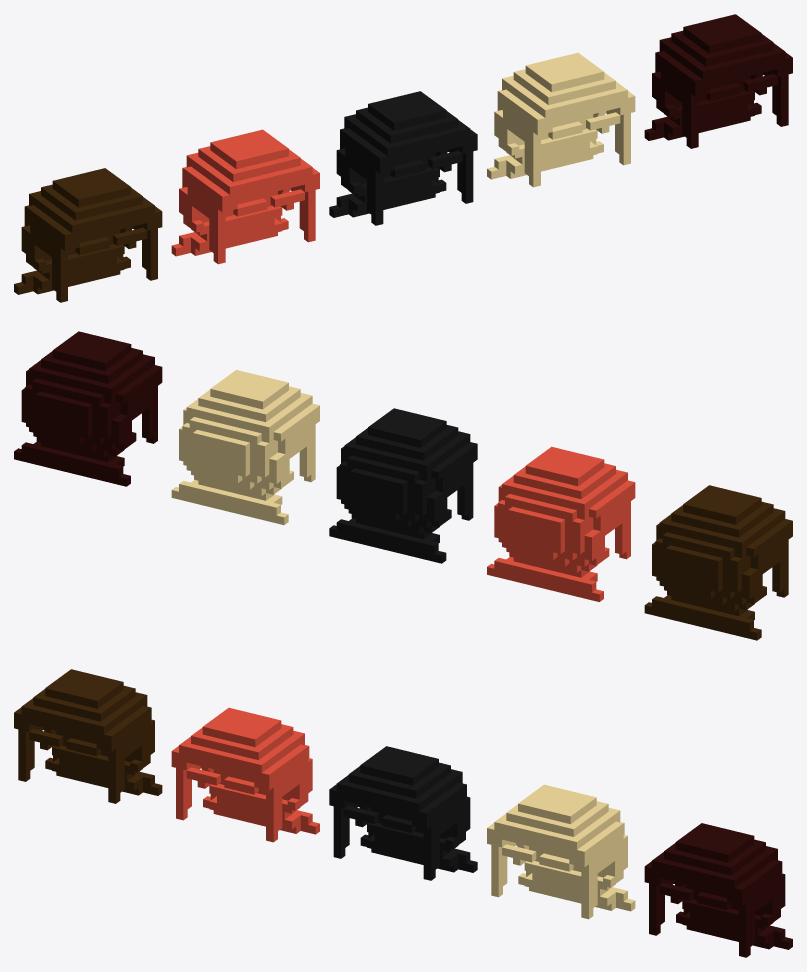
Rendered from Bonecas - Cabelos curtos (feminino).fbx.
3 views of the same model, one above another, from view 1: azimuth 30°, elevation 25°; view 2: azimuth 150°, elevation 25°; view 3: azimuth 330°, elevation 25° (orthographic).
Parts seen in each view (by area): view 1: Union_38, Union_39, Union_36, Union_37, Union_40; view 2: Union_38, Union_40, Union_37, Union_39, Union_36; view 3: Union_38, Union_37, Union_40, Union_39, Union_36.
Part boxes in pixels (box(x1,y1,x2,y2)): Union_38: box(329, 91, 477, 225); Union_39: box(171, 129, 319, 264); Union_36: box(644, 14, 792, 148); Union_37: box(487, 52, 635, 187); Union_40: box(14, 168, 162, 302); Union_38: box(329, 408, 477, 563); Union_40: box(644, 485, 792, 640); Union_37: box(171, 370, 319, 524); Union_39: box(487, 446, 635, 601); Union_36: box(14, 331, 162, 486); Union_38: box(329, 746, 477, 880); Union_37: box(487, 784, 635, 919); Union_40: box(14, 669, 162, 803); Union_39: box(171, 707, 319, 842); Union_36: box(644, 823, 792, 957).
Size of the model in its own units: 99 by 14 by 12.
